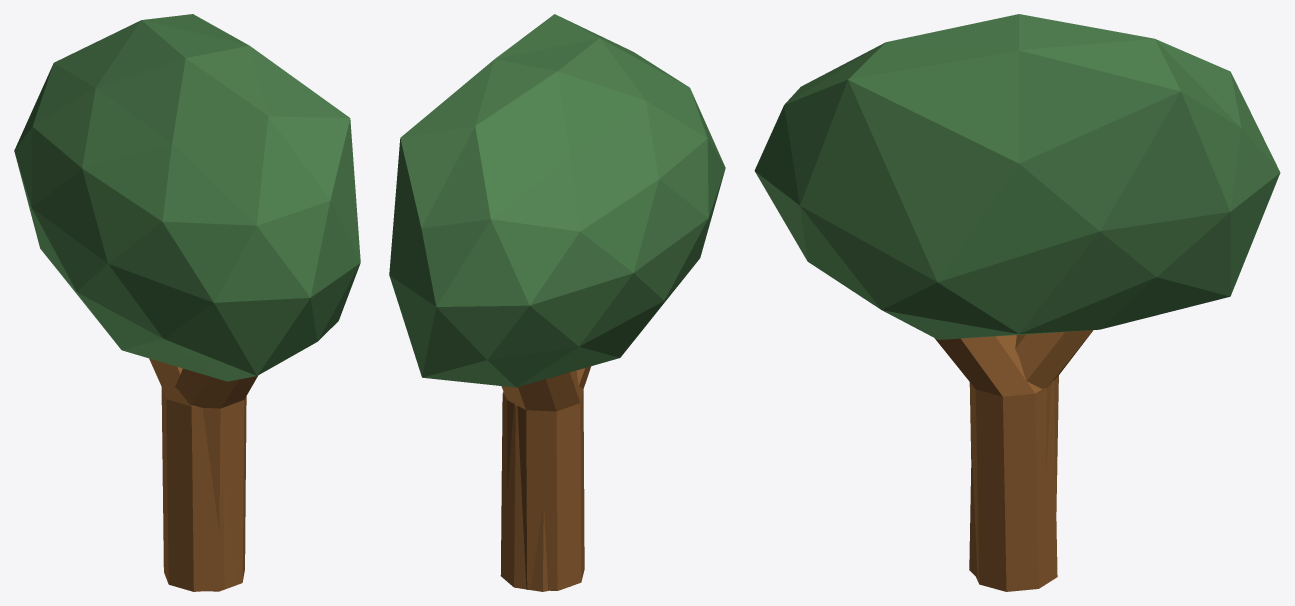
The model's file is TreeWithDoubleBranch3.fbx.
3 views of the same model, side by side, from view 1: azimuth 30°, elevation 25°; view 2: azimuth 150°, elevation 25°; view 3: azimuth 270°, elevation 25° (orthographic). The views are drawn at different scales.
Parts seen in each view (by area): view 1: Icosphere.001, Cylinder.001, Cylinder.003; view 2: Icosphere.001, Cylinder.001, Cylinder.003; view 3: Icosphere.001, Cylinder.003, Cylinder.001.
Part boxes in pixels (x1,y1,x2,y2): Icosphere.001: (14,14,360,381); Cylinder.001: (149,358,235,591); Cylinder.003: (175,368,258,591); Icosphere.001: (389,14,725,387); Cylinder.001: (501,370,584,590); Cylinder.003: (500,366,590,591); Icosphere.001: (754,14,1280,339); Cylinder.003: (934,335,1057,591); Cylinder.001: (969,330,1093,577).
Bounding box in the file's own units: 263 × 564 × 488.
